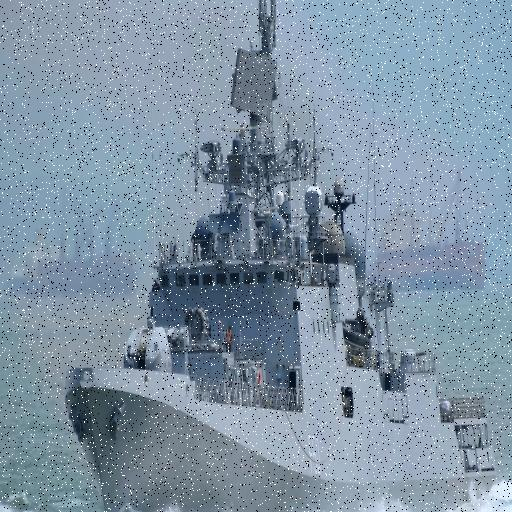Fragata: (1, 16, 348, 512)
